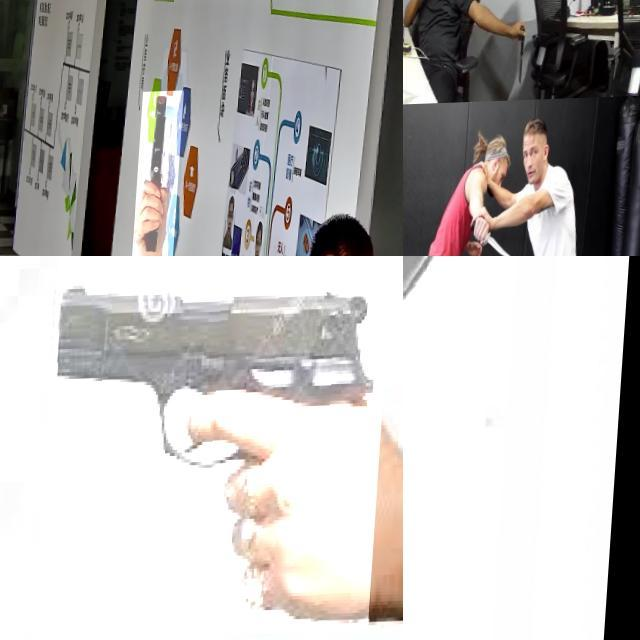-: (403, 256, 629, 640), (473, 219, 520, 256), (403, 0, 465, 27), (517, 38, 533, 90), (403, 234, 426, 256)
gun-knife-thesis - v11 Yolov5 augmented: (39, 256, 394, 640), (136, 91, 186, 256)
